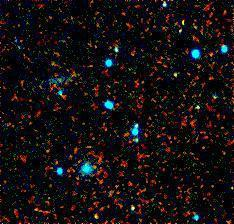star: (81, 202, 111, 224)
